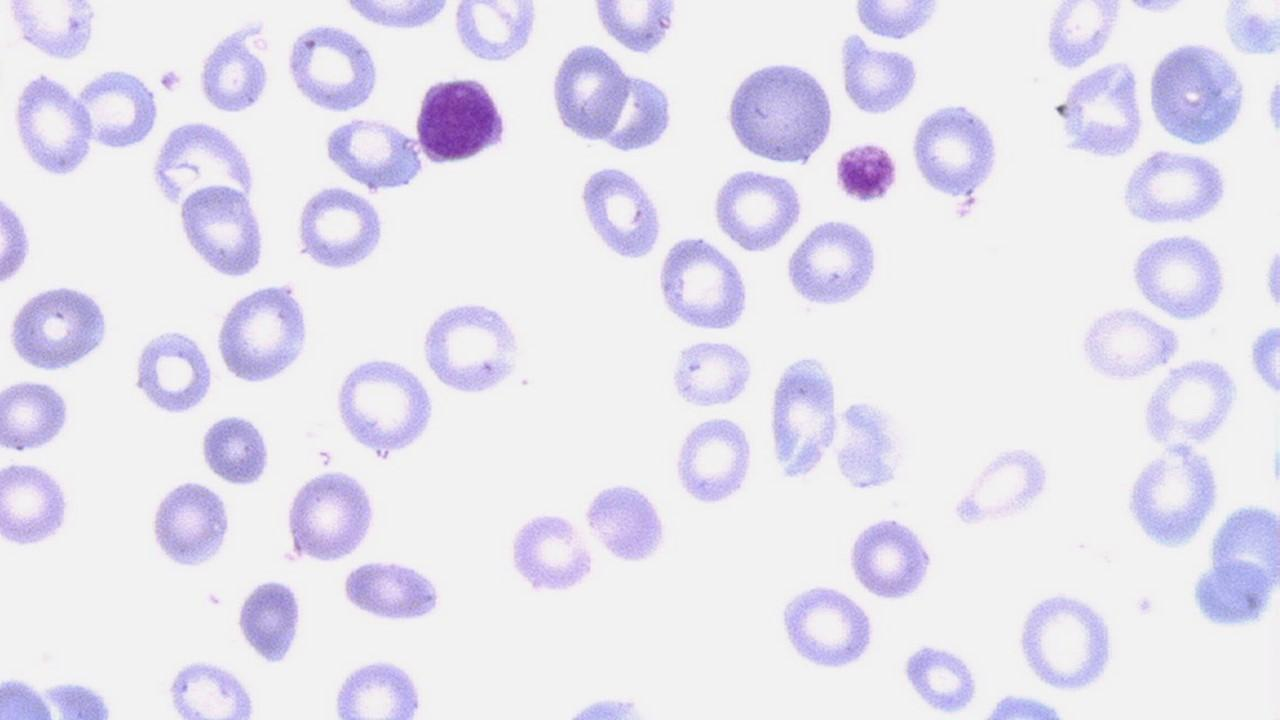Platelets: (832, 137, 902, 204), (951, 194, 979, 222), (157, 66, 184, 94)
RBC: (721, 55, 837, 168), (1189, 496, 1280, 635), (417, 294, 529, 398), (1012, 586, 1118, 695), (1120, 443, 1224, 553), (1146, 37, 1248, 149), (212, 279, 316, 387), (332, 352, 436, 459), (150, 120, 260, 218), (2, 281, 115, 376), (765, 350, 845, 483), (1052, 57, 1148, 164), (1139, 354, 1243, 452), (946, 441, 1056, 532), (654, 233, 754, 333), (284, 16, 384, 114), (10, 68, 97, 180), (781, 214, 880, 312), (282, 466, 378, 566), (1128, 228, 1230, 322), (176, 178, 268, 282), (576, 159, 666, 265), (777, 580, 877, 674), (909, 98, 1001, 200), (1118, 149, 1232, 227), (1077, 303, 1179, 387), (294, 181, 388, 272), (548, 39, 630, 143), (670, 412, 758, 508), (146, 477, 234, 572), (670, 413, 758, 508), (709, 166, 805, 253), (319, 113, 426, 191), (504, 508, 598, 596), (845, 513, 936, 602), (130, 325, 217, 416), (337, 556, 447, 627), (196, 18, 274, 117), (832, 396, 912, 492), (582, 479, 670, 566), (76, 64, 160, 153), (592, 65, 676, 154), (0, 458, 75, 550), (840, 34, 920, 118), (1185, 558, 1271, 634), (668, 336, 756, 410), (326, 656, 431, 718), (236, 576, 306, 668), (898, 638, 982, 714), (2, 4, 103, 65), (1040, 2, 1126, 72), (162, 656, 259, 718), (450, 1, 538, 66), (197, 412, 273, 487), (0, 674, 128, 718), (2, 376, 74, 454), (588, 2, 684, 57), (848, 1, 954, 42), (337, 0, 456, 33), (0, 185, 33, 293), (1221, 2, 1279, 61), (978, 690, 1067, 718), (1248, 320, 1280, 397), (559, 692, 650, 718), (1259, 241, 1280, 317), (1262, 68, 1280, 143), (1119, 0, 1191, 18)
WBC: (413, 70, 512, 168), (832, 136, 902, 206)
